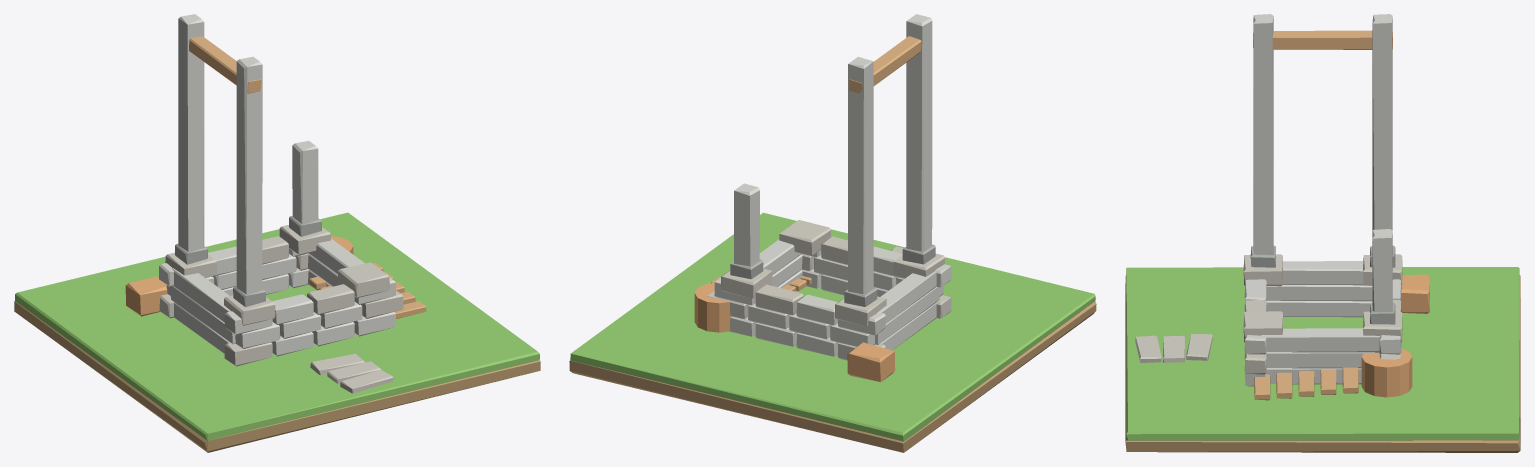
File: tower_l06_construction_LOD1.glb
3 renders of one model, left to right at view 1: azimuth 30°, elevation 25°; view 2: azimuth 150°, elevation 25°; view 3: azimuth 270°, elevation 25°, orthographic. The views are drawn at different scales.
Visible parts, largest first — view 1: tower_l06_grass_tile_tower_l06_construction_LOD1_tmp, tower_l06_earth_tile_tower_l06_construction_LOD1_tmp, post_-0.61_-0.54_tower_l06_construction_LOD1_tmp, post_-0.61_0.54_tower_l06_construction_LOD1_tmp, post_0.61_0.54_tower_l06_construction_LOD1_tmp, stone_return_2_-0.72_tower_l06_construction_LOD1_tmp, foot_0.61_-0.54_tower_l06_construction_LOD1_tmp, temporary_crossbar_tower_l06_construction_LOD1_tmp, unmounted_instrument_case_tower_l06_construction_LOD1_tmp, stone_course_2_-1_2_tower_l06_construction_LOD1_tmp, stone_return_1_-0.72_tower_l06_construction_LOD1_tmp, stone_return_2_0.72_tower_l06_construction_LOD1_tmp (+20 smaller); view 2: tower_l06_grass_tile_tower_l06_construction_LOD1_tmp, tower_l06_earth_tile_tower_l06_construction_LOD1_tmp, post_-0.61_-0.54_tower_l06_construction_LOD1_tmp, post_-0.61_0.54_tower_l06_construction_LOD1_tmp, post_0.61_0.54_tower_l06_construction_LOD1_tmp, unmounted_instrument_case_tower_l06_construction_LOD1_tmp, stone_return_2_-0.72_tower_l06_construction_LOD1_tmp, unmounted_relay_drum_tower_l06_construction_LOD1_tmp, temporary_crossbar_tower_l06_construction_LOD1_tmp, foot_0.61_-0.54_tower_l06_construction_LOD1_tmp, stone_course_2_1_2_tower_l06_construction_LOD1_tmp, stone_return_1_-0.72_tower_l06_construction_LOD1_tmp (+15 smaller); view 3: tower_l06_grass_tile_tower_l06_construction_LOD1_tmp, tower_l06_earth_tile_tower_l06_construction_LOD1_tmp, post_-0.61_-0.54_tower_l06_construction_LOD1_tmp, post_-0.61_0.54_tower_l06_construction_LOD1_tmp, stone_return_2_0.72_tower_l06_construction_LOD1_tmp, unmounted_relay_drum_tower_l06_construction_LOD1_tmp, temporary_crossbar_tower_l06_construction_LOD1_tmp, stone_return_2_-0.72_tower_l06_construction_LOD1_tmp, post_0.61_0.54_tower_l06_construction_LOD1_tmp, stone_return_1_-0.72_tower_l06_construction_LOD1_tmp, stone_return_1_0.72_tower_l06_construction_LOD1_tmp, stone_return_0_-0.72_tower_l06_construction_LOD1_tmp (+19 smaller).
Boxes of the visible parts, bbox=[...] form: tower_l06_grass_tile_tower_l06_construction_LOD1_tmp: bbox=[15, 212, 539, 440]; tower_l06_earth_tile_tower_l06_construction_LOD1_tmp: bbox=[14, 301, 540, 452]; post_-0.61_-0.54_tower_l06_construction_LOD1_tmp: bbox=[236, 56, 262, 294]; post_-0.61_0.54_tower_l06_construction_LOD1_tmp: bbox=[178, 14, 204, 251]; post_0.61_0.54_tower_l06_construction_LOD1_tmp: bbox=[292, 141, 318, 223]; stone_return_2_-0.72_tower_l06_construction_LOD1_tmp: bbox=[172, 268, 230, 322]; foot_0.61_-0.54_tower_l06_construction_LOD1_tmp: bbox=[338, 262, 389, 298]; temporary_crossbar_tower_l06_construction_LOD1_tmp: bbox=[189, 36, 261, 93]; unmounted_instrument_case_tower_l06_construction_LOD1_tmp: bbox=[125, 276, 167, 316]; stone_course_2_-1_2_tower_l06_construction_LOD1_tmp: bbox=[307, 284, 354, 314]; stone_return_1_-0.72_tower_l06_construction_LOD1_tmp: bbox=[170, 286, 235, 344]; stone_return_2_0.72_tower_l06_construction_LOD1_tmp: bbox=[309, 238, 364, 274]; tower_l06_grass_tile_tower_l06_construction_LOD1_tmp: bbox=[570, 212, 1095, 441]; tower_l06_earth_tile_tower_l06_construction_LOD1_tmp: bbox=[569, 301, 1096, 452]; post_-0.61_-0.54_tower_l06_construction_LOD1_tmp: bbox=[906, 14, 932, 251]; post_-0.61_0.54_tower_l06_construction_LOD1_tmp: bbox=[848, 56, 873, 294]; post_0.61_0.54_tower_l06_construction_LOD1_tmp: bbox=[734, 183, 759, 266]; unmounted_instrument_case_tower_l06_construction_LOD1_tmp: bbox=[847, 342, 895, 382]; stone_return_2_-0.72_tower_l06_construction_LOD1_tmp: bbox=[876, 271, 936, 323]; unmounted_relay_drum_tower_l06_construction_LOD1_tmp: bbox=[694, 283, 731, 332]; temporary_crossbar_tower_l06_construction_LOD1_tmp: bbox=[849, 36, 921, 93]; foot_0.61_-0.54_tower_l06_construction_LOD1_tmp: bbox=[779, 220, 830, 255]; stone_course_2_1_2_tower_l06_construction_LOD1_tmp: bbox=[755, 284, 803, 315]; stone_return_1_-0.72_tower_l06_construction_LOD1_tmp: bbox=[875, 286, 939, 344]; tower_l06_grass_tile_tower_l06_construction_LOD1_tmp: bbox=[1126, 267, 1519, 440]; tower_l06_earth_tile_tower_l06_construction_LOD1_tmp: bbox=[1125, 275, 1520, 452]; post_-0.61_-0.54_tower_l06_construction_LOD1_tmp: bbox=[1253, 14, 1273, 254]; post_-0.61_0.54_tower_l06_construction_LOD1_tmp: bbox=[1372, 14, 1392, 236]; stone_return_2_0.72_tower_l06_construction_LOD1_tmp: bbox=[1260, 328, 1380, 352]; unmounted_relay_drum_tower_l06_construction_LOD1_tmp: bbox=[1361, 348, 1412, 397]; temporary_crossbar_tower_l06_construction_LOD1_tmp: bbox=[1253, 30, 1392, 49]; stone_return_2_-0.72_tower_l06_construction_LOD1_tmp: bbox=[1283, 261, 1363, 285]; post_0.61_0.54_tower_l06_construction_LOD1_tmp: bbox=[1372, 229, 1392, 311]; stone_return_1_-0.72_tower_l06_construction_LOD1_tmp: bbox=[1266, 285, 1372, 301]; stone_return_1_0.72_tower_l06_construction_LOD1_tmp: bbox=[1266, 352, 1379, 368]; stone_return_0_-0.72_tower_l06_construction_LOD1_tmp: bbox=[1266, 300, 1372, 317].
Size of the model in its own units: 3.6 by 3.25 by 3.58.
